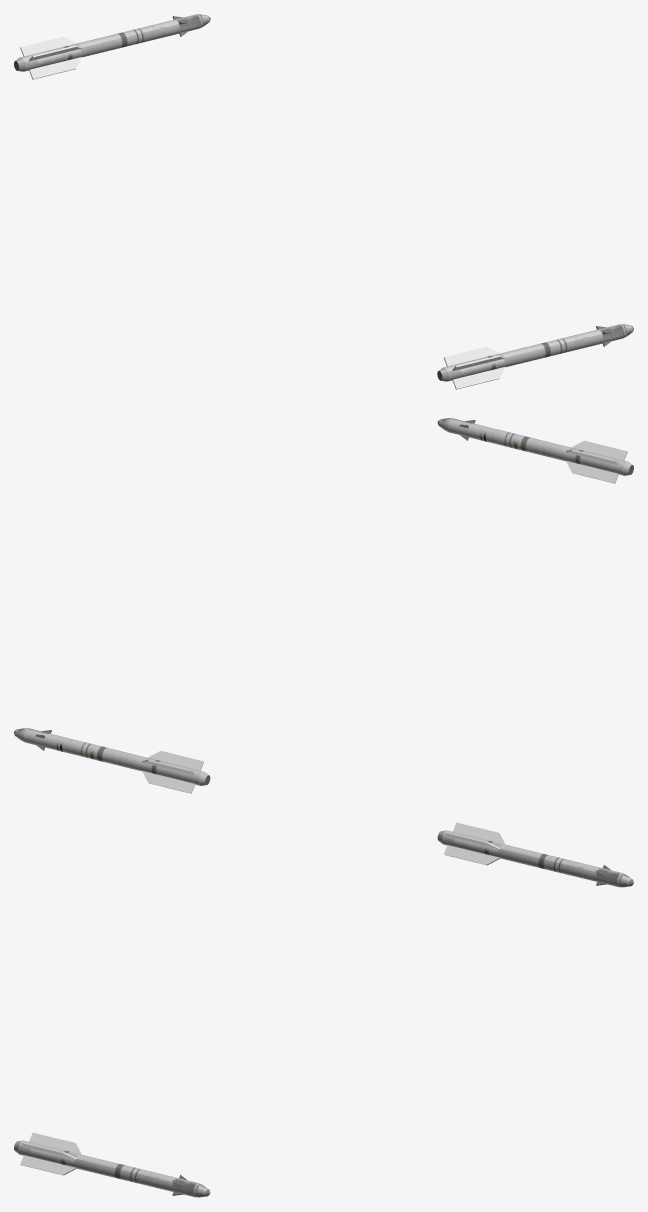
The picture shows the model from 3 angles, top to bottom: view 1: azimuth 30°, elevation 25°; view 2: azimuth 150°, elevation 25°; view 3: azimuth 330°, elevation 25°; orthographic projection.
Parts seen in each view (by area): view 1: 円柱.022, 円柱.019; view 2: 円柱.019, 円柱.022; view 3: 円柱.022, 円柱.019.
Part boxes in pixels (bbox=[...]): 円柱.022: bbox=[14, 14, 210, 79]; 円柱.019: bbox=[437, 324, 633, 389]; 円柱.019: bbox=[437, 418, 633, 483]; 円柱.022: bbox=[14, 728, 210, 793]; 円柱.022: bbox=[437, 822, 633, 887]; 円柱.019: bbox=[14, 1132, 210, 1197].
Bounding box in the file's own units: 3.52 × 0.4148 × 13.74.
Materials: 2 (1 with a texture image).
